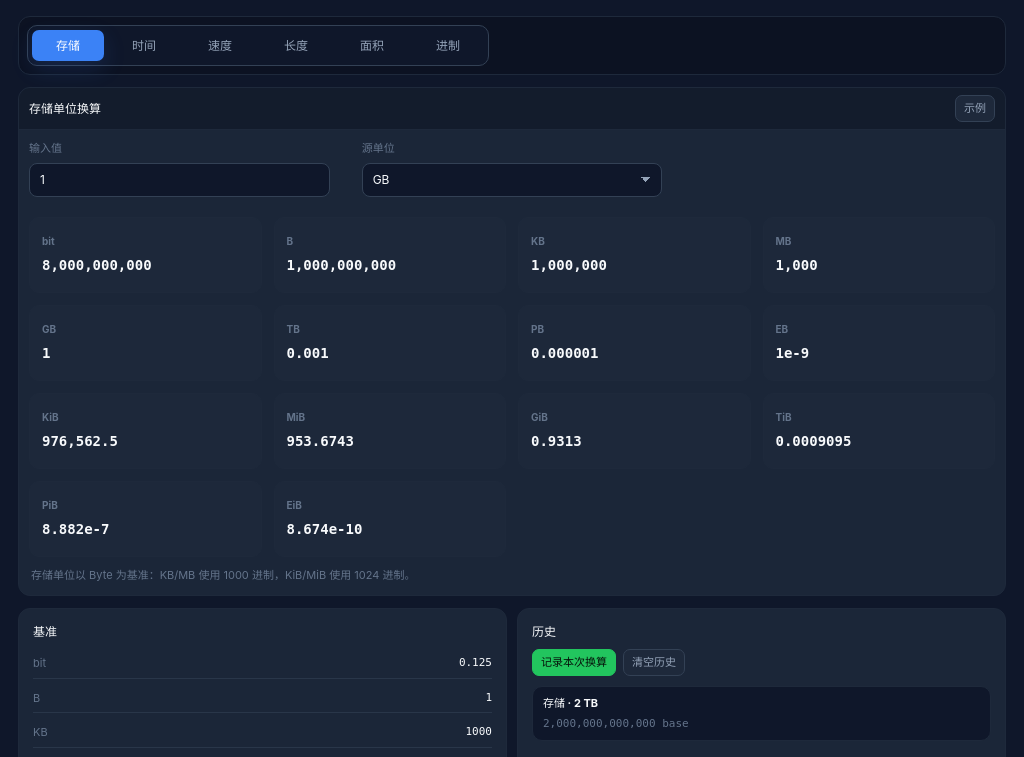
Test: UnitPage › clears unit history
Click the button "记录本次换算" at (574, 662), box [532,649,616,676]
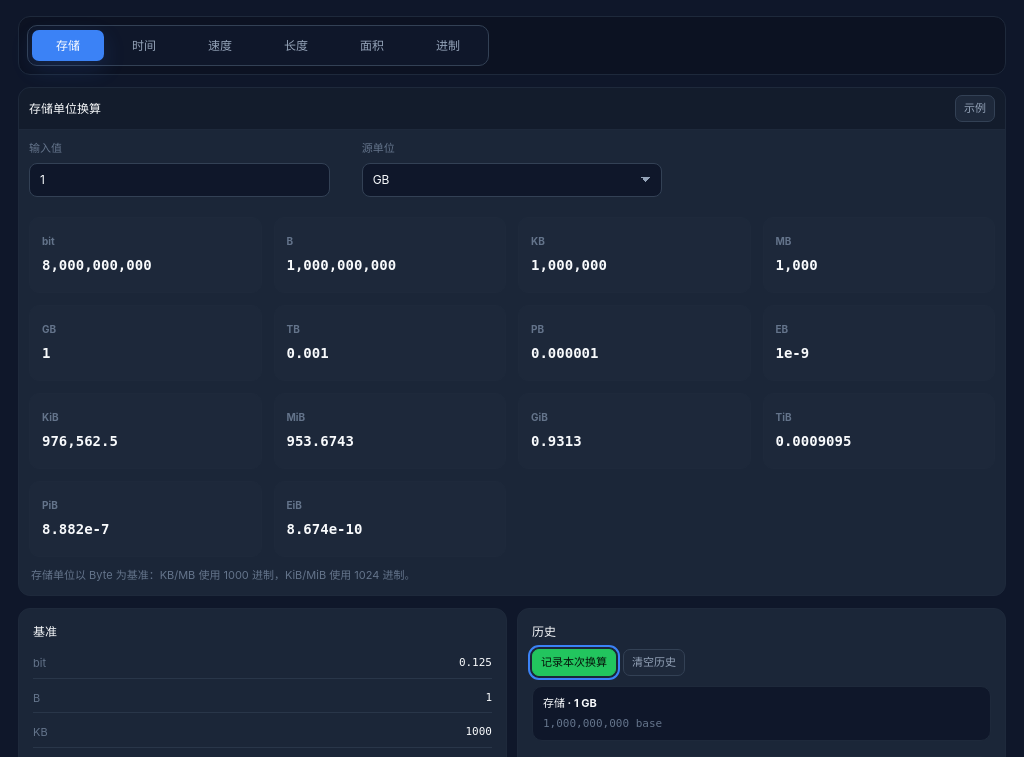
Check: the button "存储 · 1 GB 1,000,000,000 base" is shown, box [532,686,991,741]
Click the button "清空历史" at (654, 662), box [623,649,685,676]
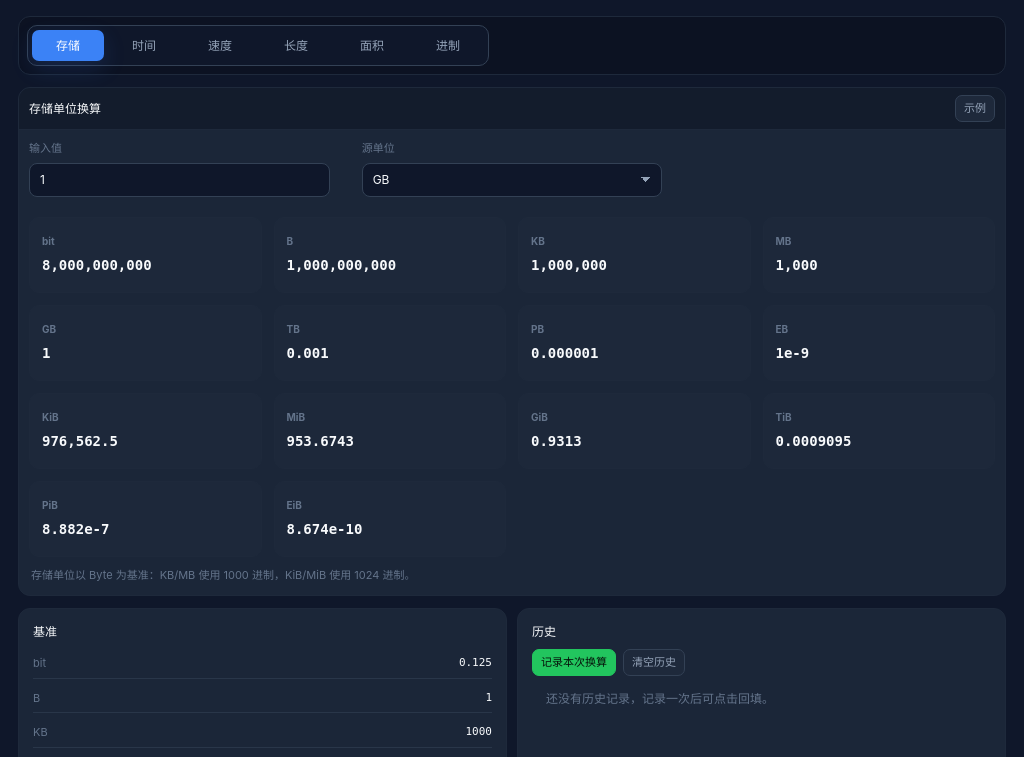
Check: the text "还没有历史记录，记录一次后可点击回填。" is shown, box [546,691,774,706]
